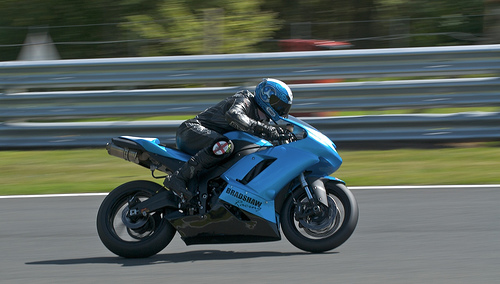helmet: (249, 78, 294, 117)
